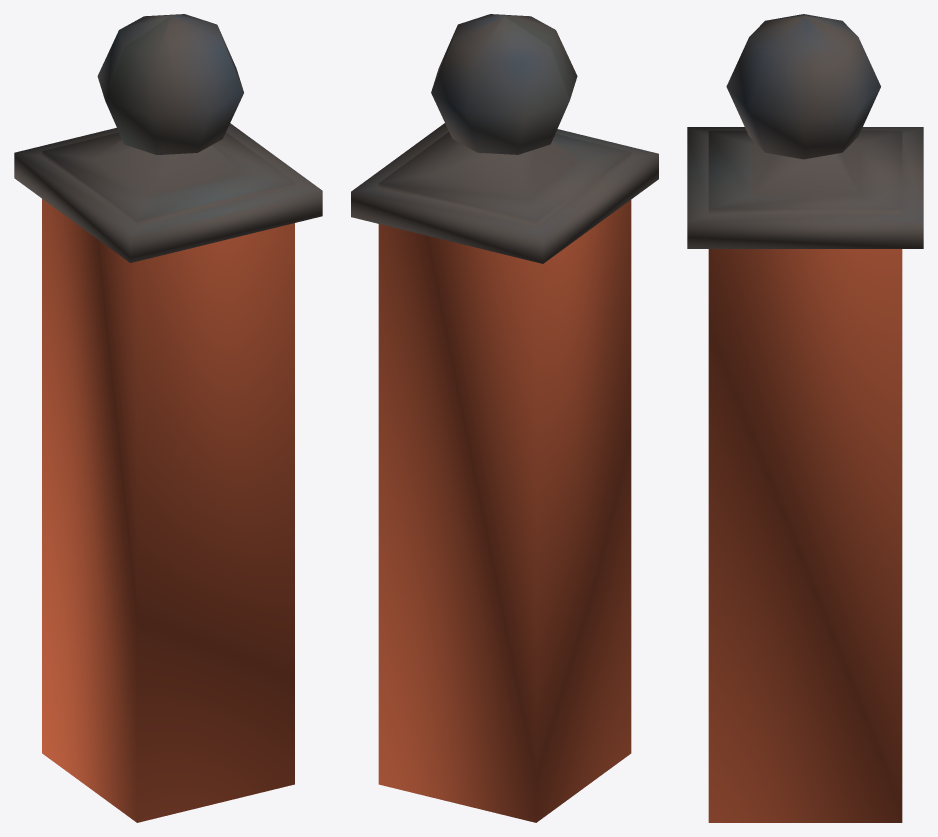
File: Mureta.fbx
The picture shows the model from 3 angles, left to right: view 1: azimuth 30°, elevation 25°; view 2: azimuth 150°, elevation 25°; view 3: azimuth 270°, elevation 25°; orthographic projection. The views are drawn at different scales.
Parts seen in each view (by area): view 1: Mureta; view 2: Mureta; view 3: Mureta.
Boxes of the visible parts, box(x1,y1,x2,y2) form: Mureta: box(14, 14, 322, 822); Mureta: box(351, 14, 658, 822); Mureta: box(687, 14, 923, 822).
Bounding box in the file's own units: 117 × 438 × 122.
1 material, 1 textured.
